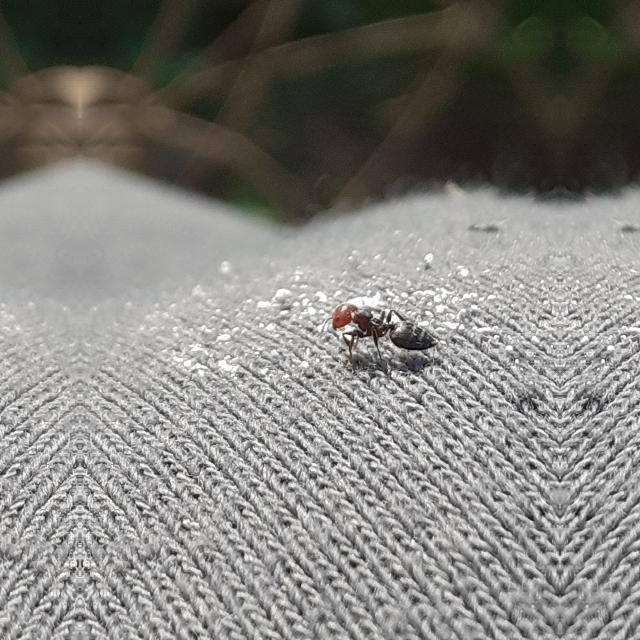Crematogaster: (321, 302, 442, 368)
